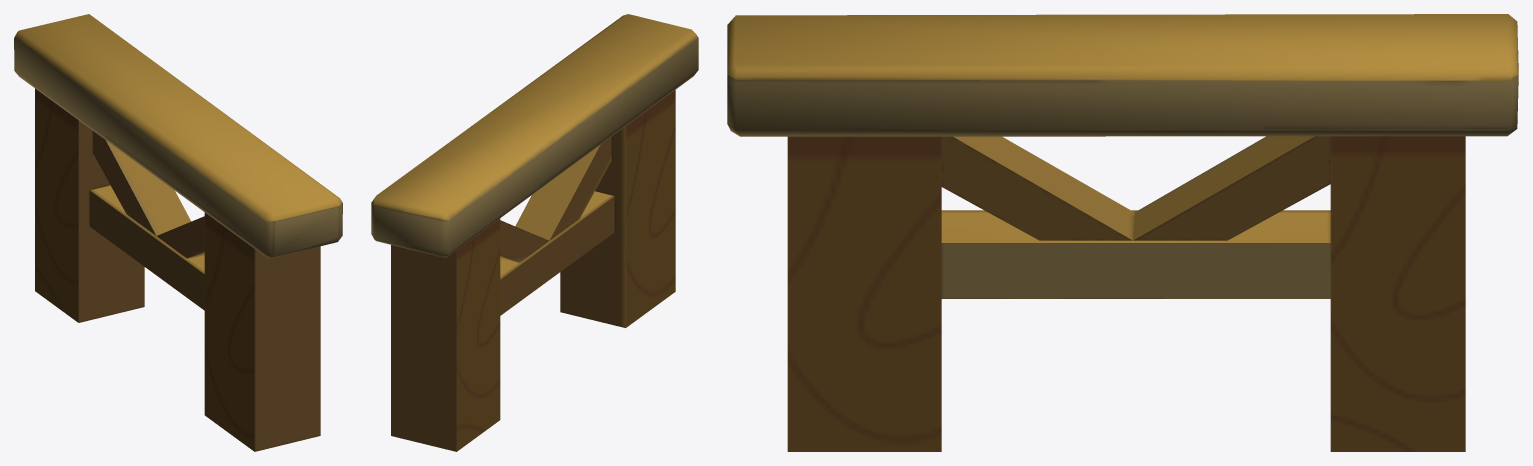
Rendered from fence.fbx.
3 renders of one model, left to right at view 1: azimuth 30°, elevation 25°; view 2: azimuth 150°, elevation 25°; view 3: azimuth 270°, elevation 25°, orthographic. The views are drawn at different scales.
Parts seen in each view (by area): view 1: Fence mid part.001; view 2: Fence mid part.001; view 3: Fence mid part.001.
Part boxes in pixels (bbox=[...]): Fence mid part.001: bbox=[14, 14, 342, 451]; Fence mid part.001: bbox=[371, 14, 698, 451]; Fence mid part.001: bbox=[727, 14, 1518, 451].
Bounding box in the file's own units: 12.41 × 38.16 × 70.66.
